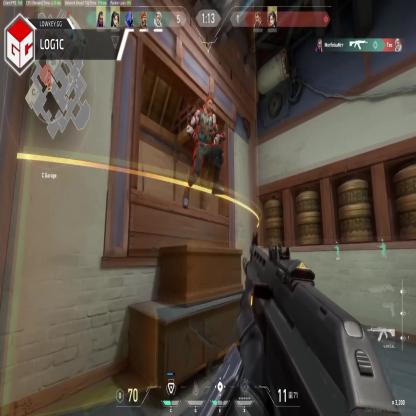enemy: (182, 94, 225, 210)
enemy_head: (205, 96, 213, 113)
